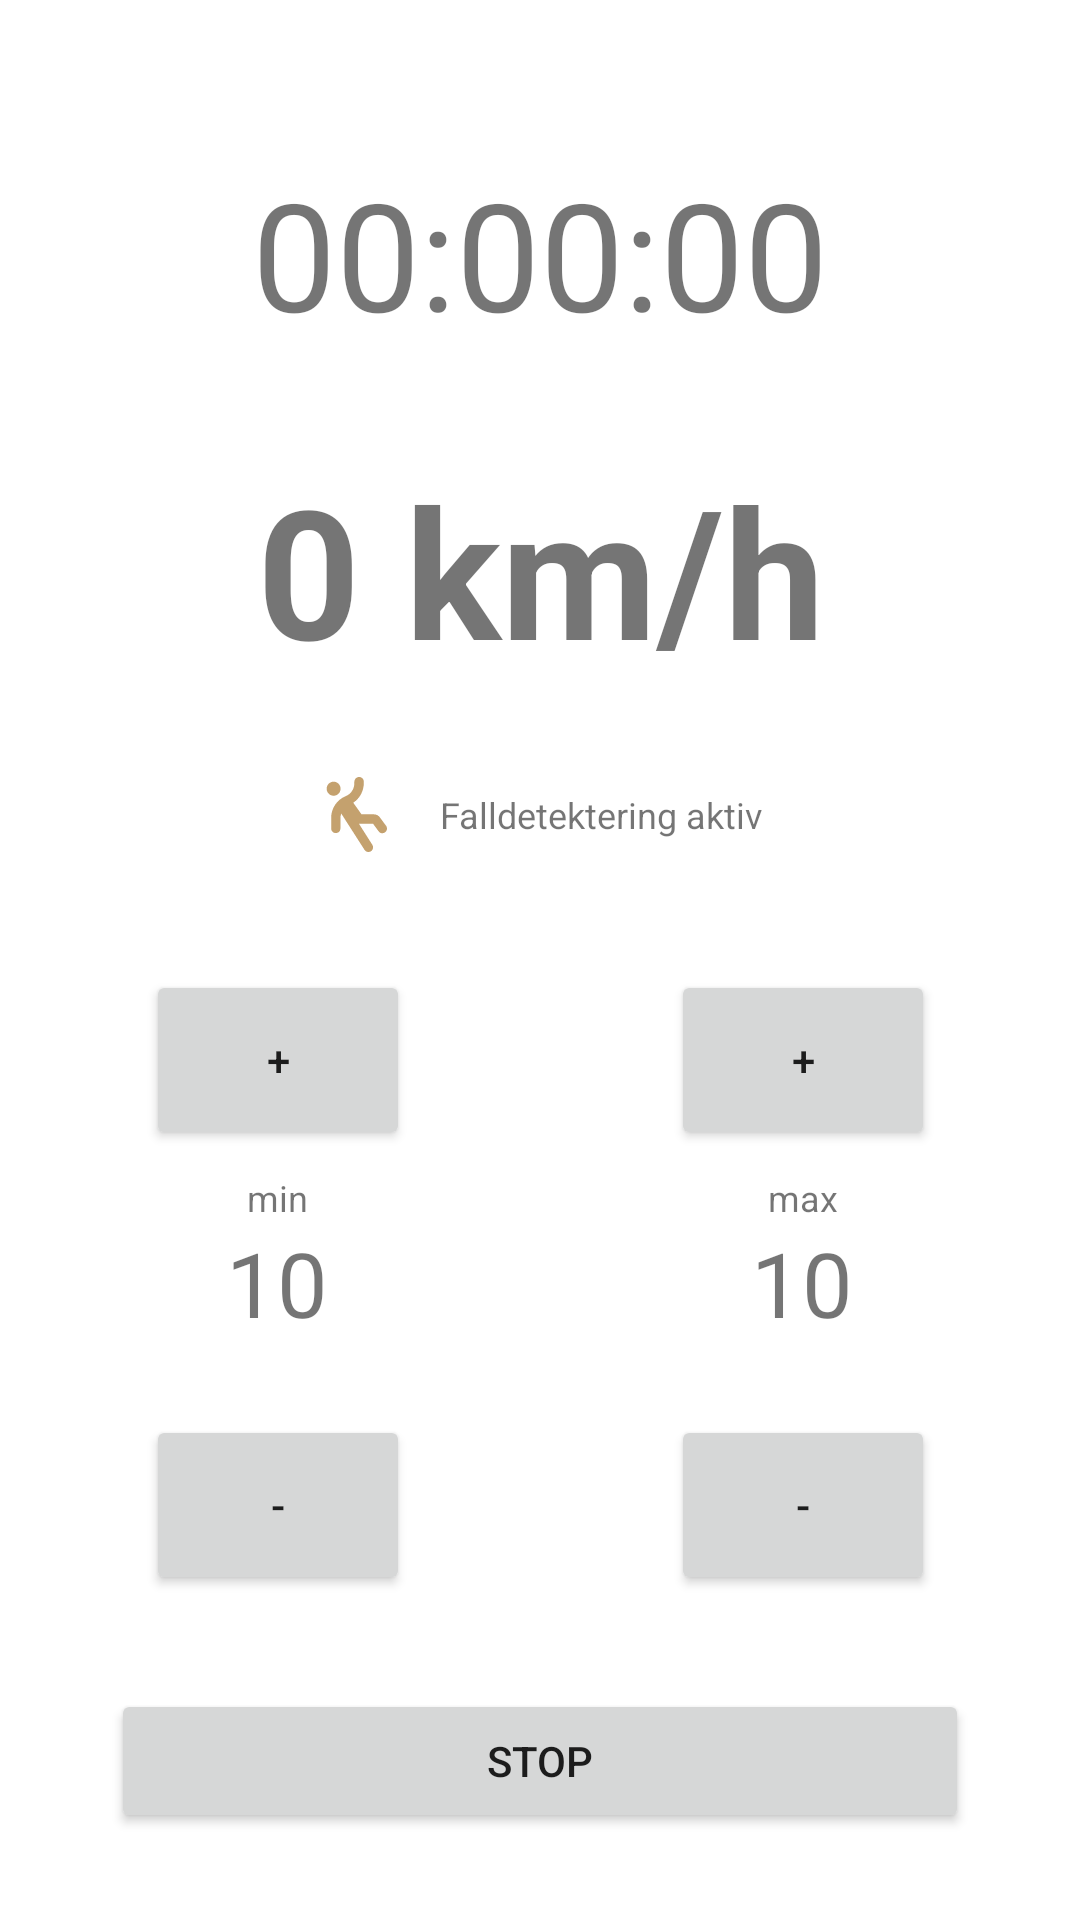

Locate icon controls on the screen. Image size 1080 × 1920, boxes as (x1, y1, x2, y2).
person falling: (326, 777, 387, 852)
